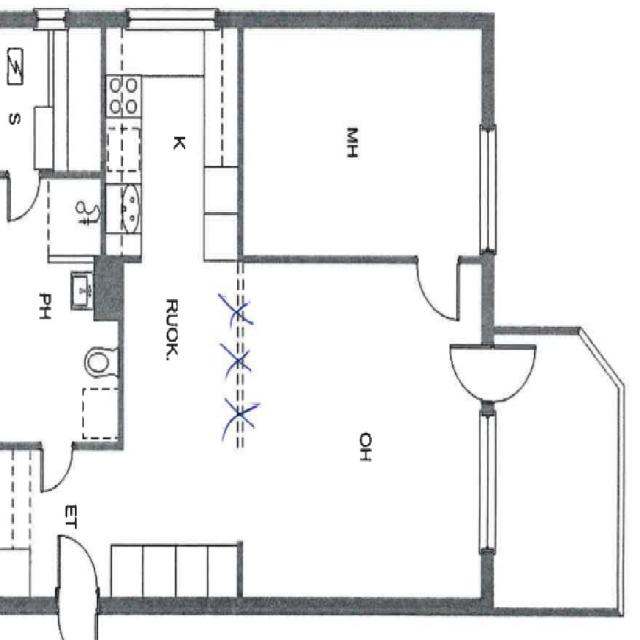door: (416, 255, 459, 320), (480, 346, 532, 399), (440, 346, 492, 399), (58, 546, 97, 613), (7, 170, 41, 223), (58, 597, 97, 640), (41, 442, 72, 492)
